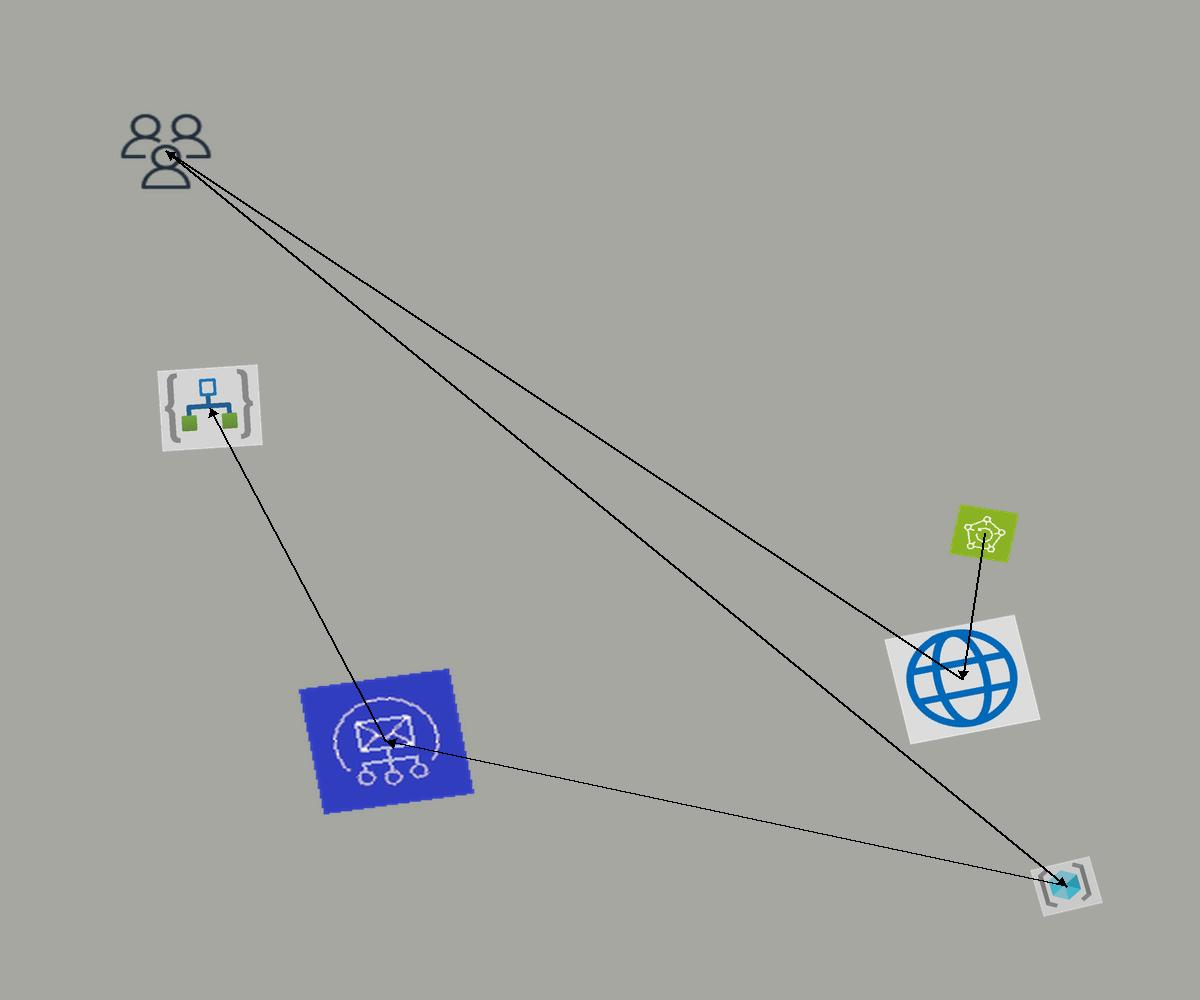AWS-Backup: (949, 504, 1019, 563)
AWS-Res_Users: (115, 109, 217, 194)
AWS-Simple-Email-Service: (297, 667, 476, 816)
Azure_http: (884, 614, 1041, 745)
Azure_integration-204-Logic-Apps: (157, 364, 263, 452)
Azure_resource_group: (1030, 856, 1103, 917)
